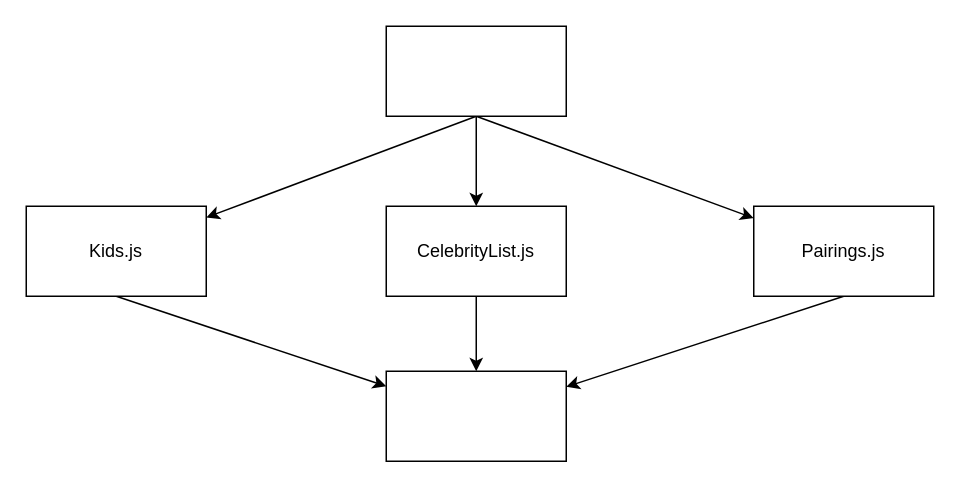
Image size: 960x488. Some labels were removed from this diagram. The centre of each missing label's shape, as x and y in pixels:
"database.js" goes at (475,415).
"main.js" goes at (475,70).
